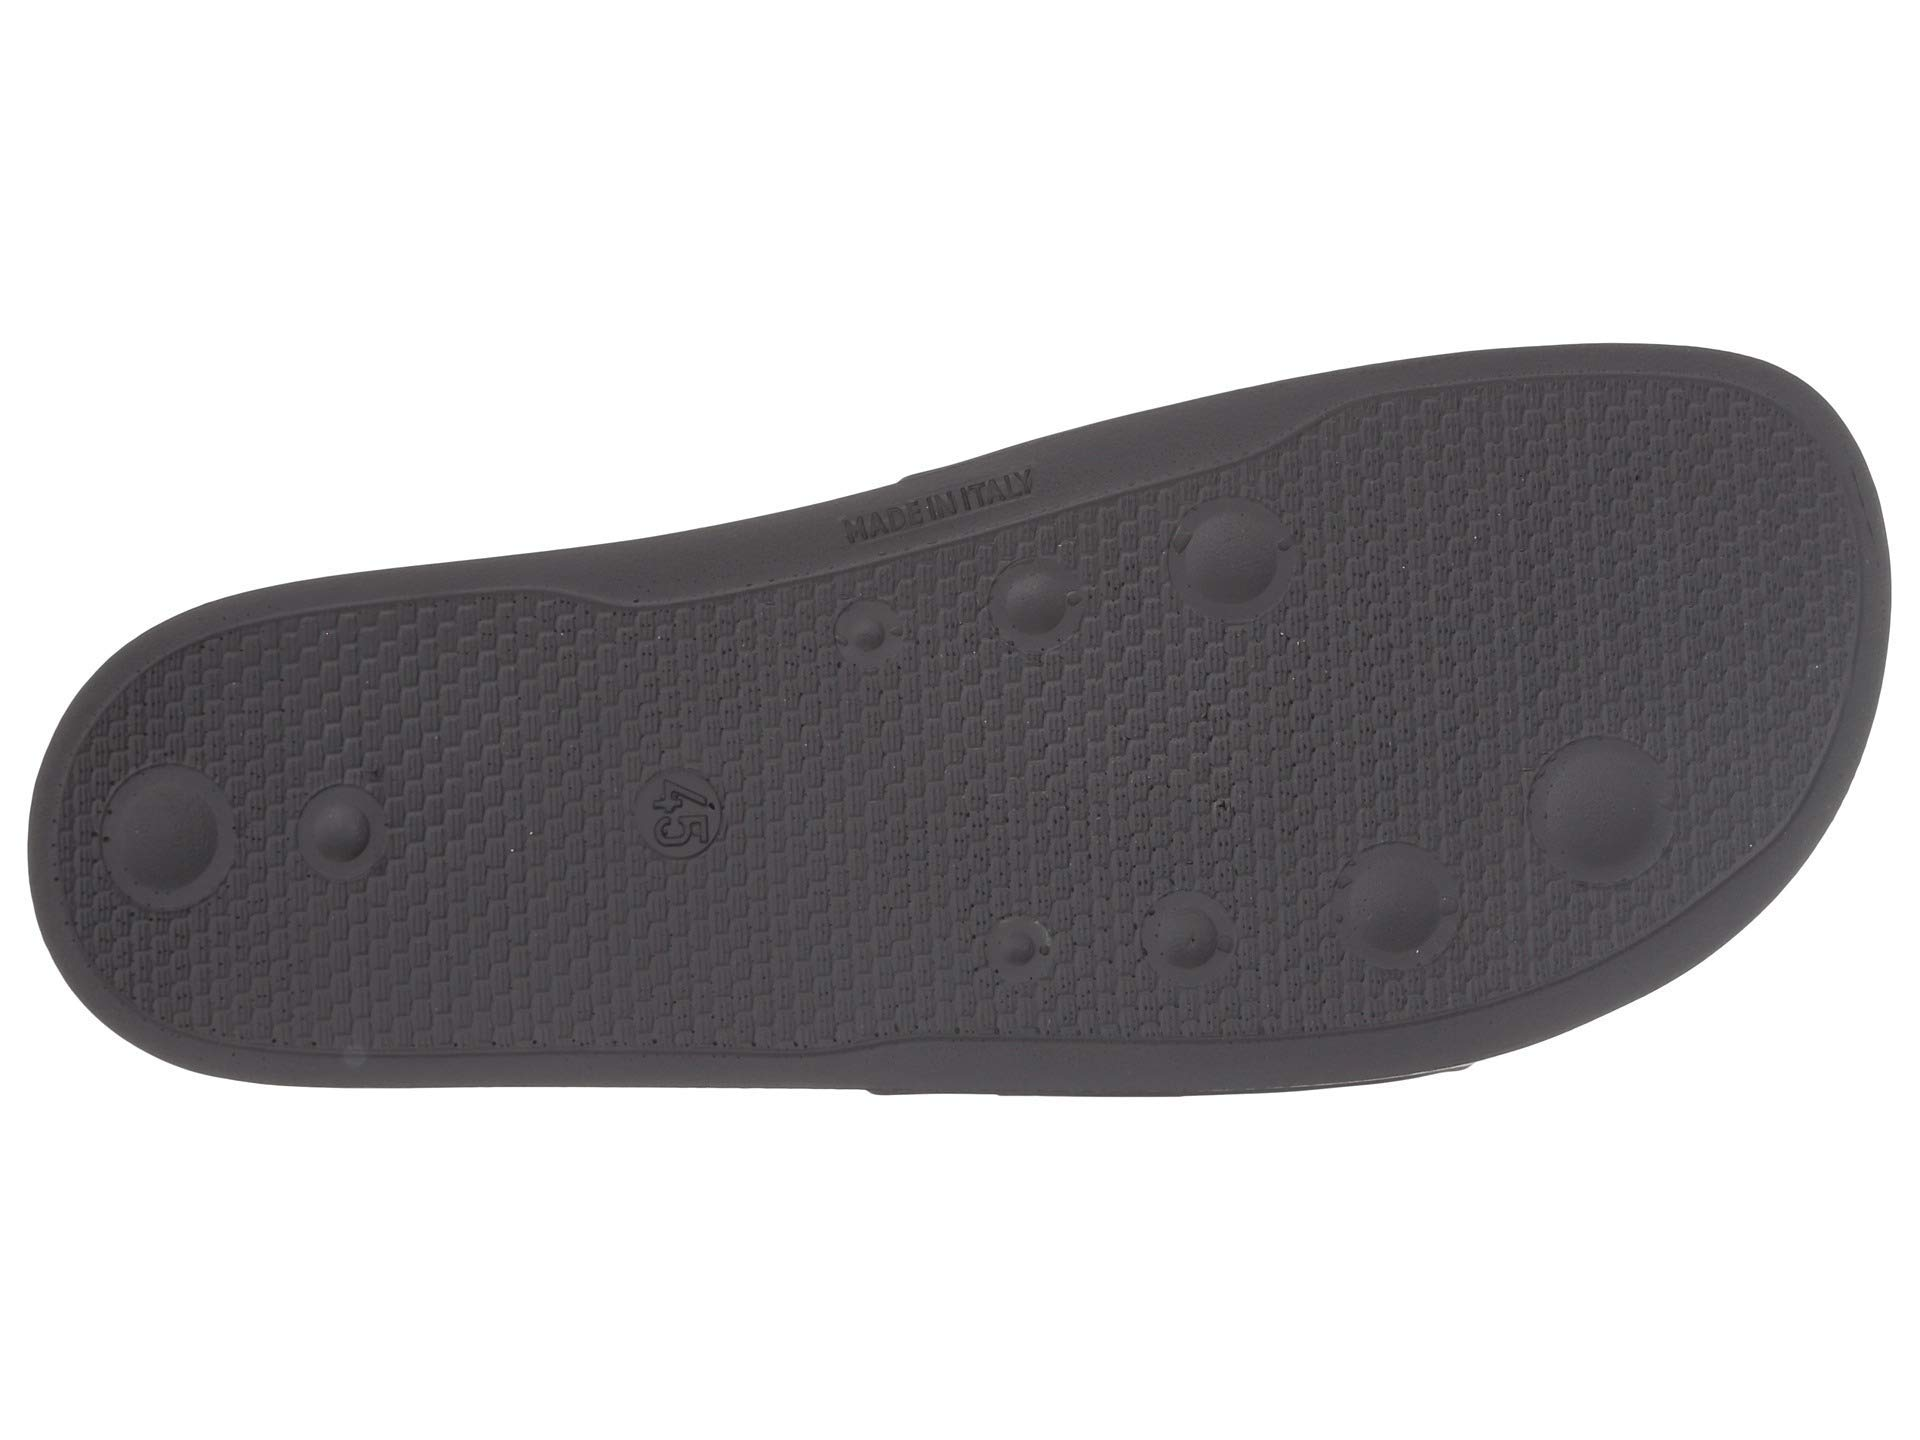circle: (88, 749, 249, 935), (1166, 483, 1339, 643), (611, 749, 779, 900), (287, 765, 405, 889), (983, 557, 1095, 669), (821, 593, 934, 679), (977, 898, 1057, 991)
exclude: (1479, 696, 1698, 900), (1327, 823, 1473, 976), (1116, 865, 1252, 998)
quad: (1423, 401, 1814, 663), (405, 641, 600, 983), (865, 734, 1296, 838), (671, 924, 924, 1044), (611, 749, 779, 900)
text: (611, 749, 779, 900)
